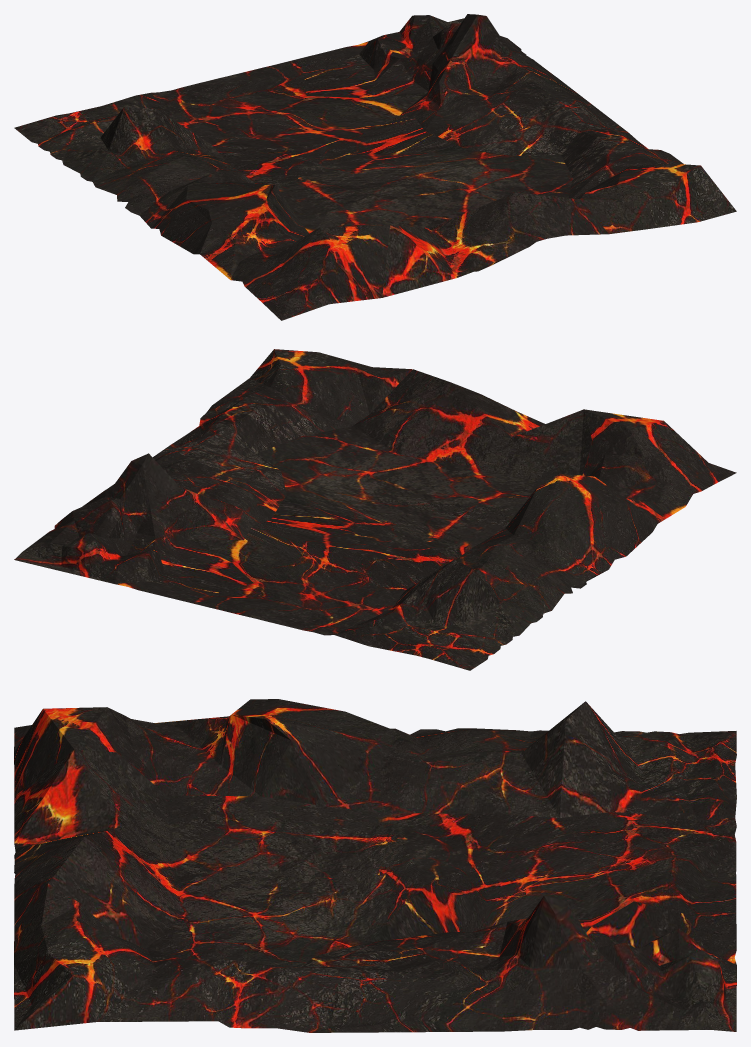
Rendered from HellTerrainFinish.fbx.
The picture shows the model from 3 angles, top to bottom: view 1: azimuth 30°, elevation 25°; view 2: azimuth 150°, elevation 25°; view 3: azimuth 270°, elevation 25°; orthographic projection. The views are drawn at different scales.
Visible parts, largest first — view 1: HellTerrainFinish; view 2: HellTerrainFinish; view 3: HellTerrainFinish.
Part boxes in pixels (left/top/right/bottom): HellTerrainFinish: left=14, top=14, right=736, bottom=320; HellTerrainFinish: left=14, top=349, right=736, bottom=670; HellTerrainFinish: left=14, top=699, right=736, bottom=1032.
Bounding box in the file's own units: 39.99 × 6 × 40.02.
